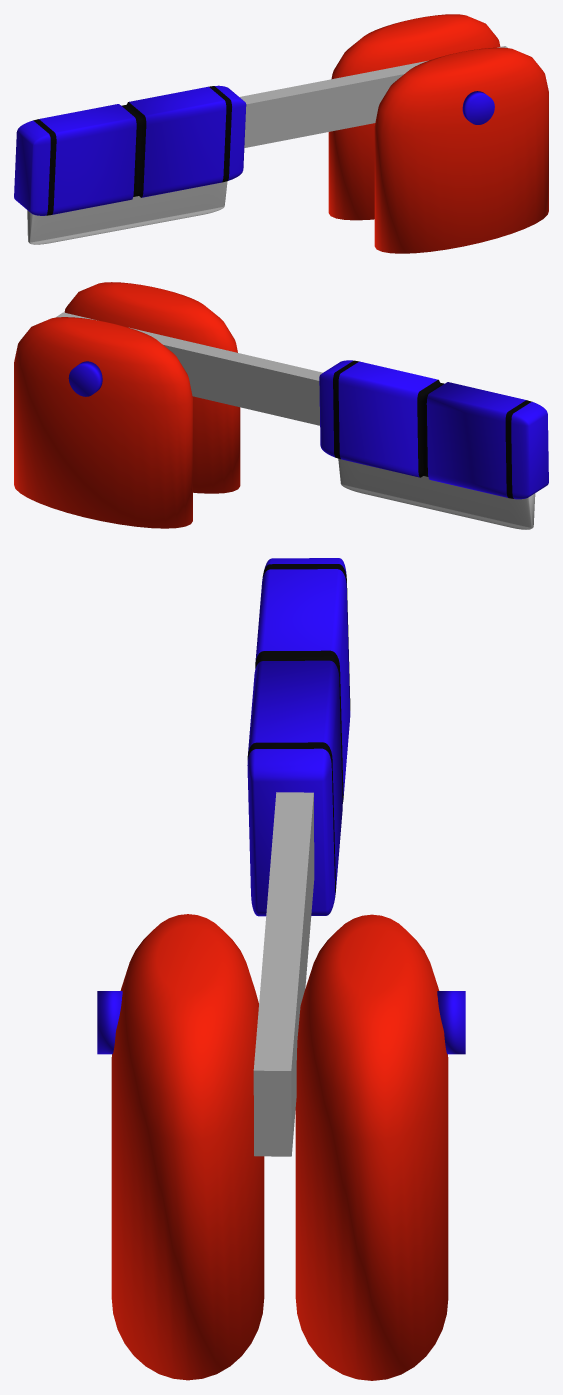
The model's file is Obstacle5.fbx.
3 views of the same model, one above another, from view 1: azimuth 30°, elevation 25°; view 2: azimuth 150°, elevation 25°; view 3: azimuth 270°, elevation 25° (orthographic). The views are drawn at different scales.
Parts seen in each view (by area): view 1: Cube.003, Cylinder.016, Cylinder.017, Cylinder.018; view 2: Cube.003, Cylinder.017, Cylinder.016, Cylinder.019; view 3: Cylinder.017, Cylinder.016, Cube.003, Cylinder.019, Cylinder.018.
Boxes of the visible parts, x1,y1,x2,y2 form: Cube.003: (14, 46, 507, 244); Cylinder.016: (374, 47, 548, 253); Cylinder.017: (328, 14, 500, 220); Cylinder.018: (462, 91, 494, 124); Cube.003: (55, 312, 548, 529); Cylinder.017: (14, 317, 192, 528); Cylinder.016: (64, 282, 240, 493); Cylinder.019: (68, 361, 102, 396); Cylinder.017: (295, 914, 448, 1380); Cylinder.016: (111, 914, 264, 1380); Cube.003: (247, 558, 350, 1156); Cylinder.019: (437, 991, 465, 1054); Cylinder.018: (97, 991, 122, 1054).
Bounding box in the file's own units: 650 × 221 × 209.
